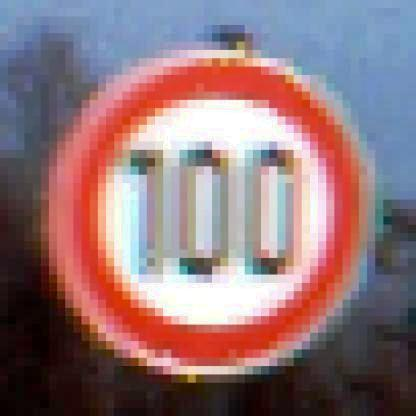Speed Limit -100-: (43, 45, 375, 380)
